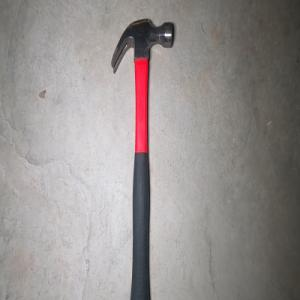Hammer: (109, 17, 173, 300)
